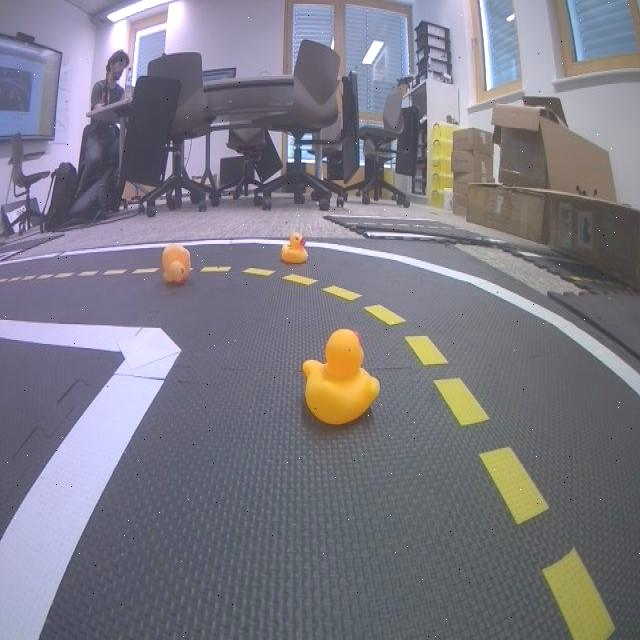duckie: (302, 327, 382, 426), (161, 243, 191, 283), (280, 232, 308, 264)
